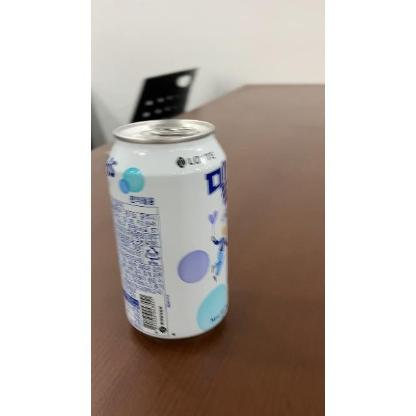Can: (107, 119, 228, 341)
